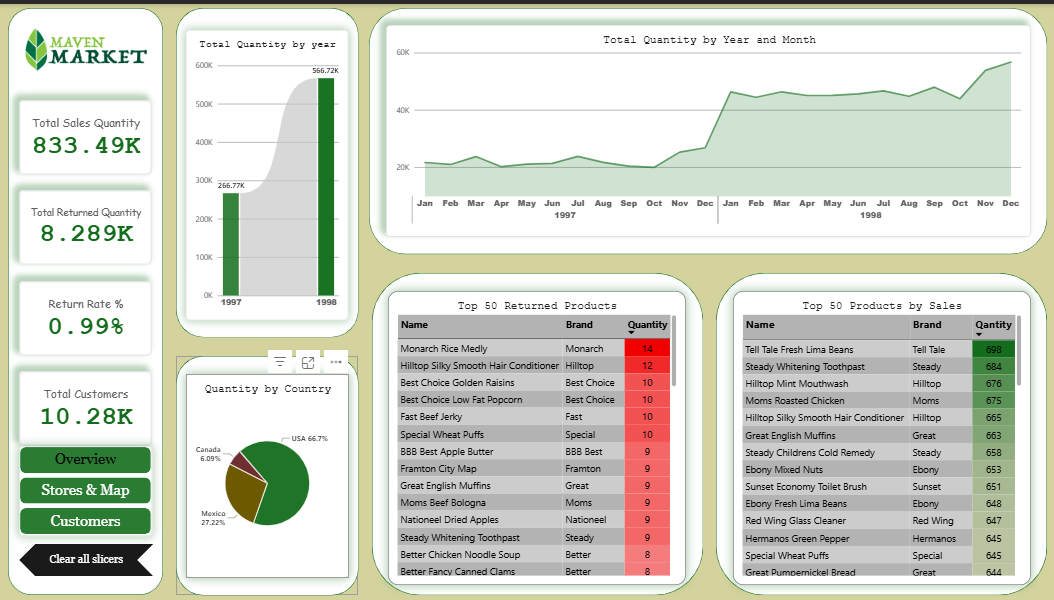

Layout of this report page (visuals, bound fields, positions):
{"tool":"powerbi","page":{"name":"Overview","canvas":[1920,1080],"ordinal":0},"visuals":[{"type":"shape","box":[20,7.5,280,1060],"z":0},{"type":"shape","box":[322.5,7.5,330,595],"z":0,"group":"g5"},{"type":"shape","box":[672.5,7.5,1225,445],"z":0,"group":"g1"},{"type":"cardVisual","fields":{"Data":["_Measures.Total Sales Quantity"]},"box":[40,172.5,240,135],"z":0,"group":"g3"},{"type":"shape","box":[676.5,485.8,598.2,582.2],"z":0,"group":"g2"},{"type":"shape","box":[1298.8,485.8,598.1,582.2],"z":0,"group":"g4"},{"type":"image","box":[20,37.5,280,87.5],"z":1000},{"type":"lineChart","title":"Total Quantity by Year and Month","fields":{"Category":["DimDate.year","DimDate.Month Short"],"Y":["_Measures.Total Sales Quantity"]},"box":[702.5,37.5,1165,382.5],"z":1000,"group":"g1"},{"type":"columnChart","title":"Total Quantity by year","fields":{"Category":["DimDate.year"],"Y":["_Measures.Total Sales Quantity"]},"box":[340.8,47.4,293.1,524.4],"z":1000,"group":"g5"},{"type":"cardVisual","fields":{"Data":["_Measures.Total Returned Quantity"]},"box":[40,335.8,240,135],"z":1000,"group":"g3"},{"type":"tableEx","title":"Top 50 Returned Products","fields":{"Values":["DimProduct.product_name","DimProduct.product_brand","_Measures.Total Returned Quantity"]},"box":[704.9,517.9,537.6,530.8],"z":1000,"group":"g2"},{"type":"tableEx","title":"Top 50 Products by Sales","fields":{"Values":["DimProduct.product_name","DimProduct.product_brand","_Measures.Total Sales Quantity"]},"box":[1329.1,517.9,537.5,530.8],"z":1000,"group":"g4"},{"type":"shape","box":[322.5,635.5,330,432.5],"z":1000,"group":"g6"},{"type":"group","id":"g1","title":"Line Chart","box":[672.5,7.5,1225,445],"z":2000},{"type":"cardVisual","fields":{"Data":["_Measures.Return Rate %"]},"box":[40,499.2,240,135],"z":2000,"group":"g3"},{"type":"group","id":"g2","title":"50 Return Product","box":[676.5,485.8,598.2,582.2],"z":3000},{"type":"cardVisual","fields":{"Data":["_Measures.Total Customers"]},"box":[40,662.5,240,135],"z":3000,"group":"g3"},{"type":"group","id":"g3","title":"Cards","box":[40,172.5,237.5,625],"z":4000},{"type":"group","id":"g4","title":"50 Sales Product","box":[1298.8,485.8,598.2,582.2],"z":5000},{"type":"group","id":"g5","title":"Total Quantity By Year","box":[322.5,7.5,330,595],"z":6000},{"type":"group","id":"g6","title":"Quantity BY Country","box":[322.5,635.5,330,432.5],"z":7000},{"type":"donutChart","title":" Quantity by Country","fields":{"Category":["DimStore.store_country"],"Y":["_Measures.Total Sales Quantity"]},"box":[340.6,667.9,293.8,367.6],"z":8000,"group":"g6"},{"type":"pageNavigator","box":[40,797.5,240.9,162.6],"z":8000},{"type":"actionButton","box":[40.1,975.6,242.9,58.2],"z":9000}]}

Visuals, with their boxes in screenshot pixels (x1, y1, x2, y2), scaled from the page's 1920x1080 canvas onto the 1054x600 screenshot:
shape: detection(11, 4, 165, 593)
shape: detection(177, 4, 358, 335)
shape: detection(369, 4, 1042, 251)
cardVisual - _Measures.Total Sales Quantity: detection(22, 96, 154, 171)
shape: detection(371, 270, 700, 593)
shape: detection(713, 270, 1041, 593)
image: detection(11, 21, 165, 69)
"Total Quantity by Year and Month" lineChart: detection(386, 21, 1025, 233)
"Total Quantity by year" columnChart: detection(187, 26, 348, 318)
cardVisual - _Measures.Total Returned Quantity: detection(22, 187, 154, 262)
"Top 50 Returned Products" tableEx: detection(387, 288, 682, 583)
"Top 50 Products by Sales" tableEx: detection(730, 288, 1025, 583)
shape: detection(177, 353, 358, 593)
"Line Chart" group: detection(369, 4, 1042, 251)
cardVisual - _Measures.Return Rate %: detection(22, 277, 154, 352)
"50 Return Product" group: detection(371, 270, 700, 593)
cardVisual - _Measures.Total Customers: detection(22, 368, 154, 443)
"Cards" group: detection(22, 96, 152, 443)
"50 Sales Product" group: detection(713, 270, 1041, 593)
"Total Quantity By Year" group: detection(177, 4, 358, 335)
"Quantity BY Country" group: detection(177, 353, 358, 593)
" Quantity by Country" donutChart: detection(187, 371, 348, 575)
pageNavigator: detection(22, 443, 154, 533)
actionButton: detection(22, 542, 155, 574)
